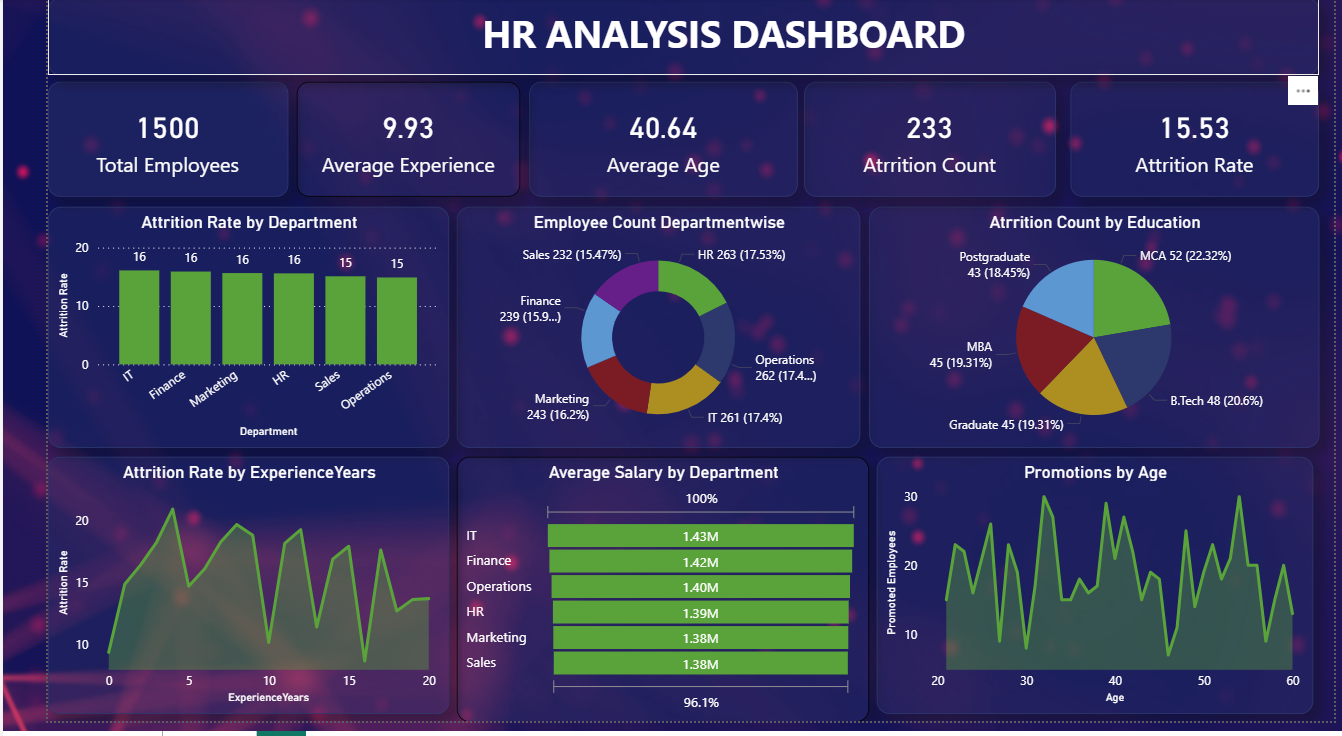

What the dashboard file says about the page in this screenshot:
{"tool":"powerbi","page":{"name":"Page 1","canvas":[1280,720],"ordinal":0},"visuals":[{"type":"funnel","fields":{"Category":["Employee Data.Department"],"Y":["Employee Data.Average Salary"]},"box":[406.8,456.5,410.5,263.7],"z":0},{"type":"donutChart","title":" Employee Count Departmentwise","fields":{"Y":["Employee Data.Total Employees"],"Category":["Employee Data.Department"]},"box":[406.8,207.7,401.8,240.1],"z":1000},{"type":"pieChart","fields":{"Y":["Employee Data.Atrrition Count"],"Category":["Employee Data.Education"]},"box":[817.3,207.7,447.8,240.1],"z":2000},{"type":"card","fields":{"Values":["Employee Data.Average Age"]},"box":[478.9,83.3,267.5,114.4],"z":3000},{"type":"card","fields":{"Values":["Employee Data.Attrition Rate"]},"box":[1017.6,83.3,247.5,114.4],"z":4000},{"type":"card","fields":{"Values":["Employee Data.Average Experience"]},"box":[247.5,83.3,222.7,114.4],"z":5000},{"type":"card","fields":{"Values":["Employee Data.Total Employees"]},"box":[0,83.3,238.8,114.4],"z":6000},{"type":"card","fields":{"Values":["Employee Data.Atrrition Count"]},"box":[752.6,83.3,250,114.4],"z":7000},{"type":"columnChart","fields":{"Category":["Employee Data.Department"],"Y":["Employee Data.Attrition Rate"]},"box":[0,207.7,399.3,240.1],"z":8000},{"type":"textbox","box":[0,0,1265.1,77.1],"z":9000},{"type":"areaChart","title":"Promotions by Age","fields":{"Category":["Employee Data.Age"],"Y":["Employee Data.Promoted Employees"]},"box":[824.7,456.5,434.1,256.3],"z":10000},{"type":"areaChart","fields":{"Y":["Employee Data.Attrition Rate"],"Category":["Employee Data.ExperienceYears"]},"box":[0,456.5,399.3,256.3],"z":11000}]}

Visuals, with their boxes in screenshot pixels (x1, y1, x2, y2), scaled from the page's 1280x720 canvas onto the 1342x736 screenshot:
funnel - Employee Data.Department x Employee Data.Average Salary: rect(427, 467, 857, 735)
" Employee Count Departmentwise" donutChart: rect(427, 212, 848, 458)
pieChart - Employee Data.Atrrition Count x Employee Data.Education: rect(857, 212, 1326, 458)
card - Employee Data.Average Age: rect(502, 85, 783, 202)
card - Employee Data.Attrition Rate: rect(1067, 85, 1326, 202)
card - Employee Data.Average Experience: rect(259, 85, 493, 202)
card - Employee Data.Total Employees: rect(0, 85, 250, 202)
card - Employee Data.Atrrition Count: rect(789, 85, 1051, 202)
columnChart - Employee Data.Department x Employee Data.Attrition Rate: rect(0, 212, 419, 458)
textbox: rect(0, 0, 1326, 79)
"Promotions by Age" areaChart: rect(865, 467, 1320, 729)
areaChart - Employee Data.Attrition Rate x Employee Data.ExperienceYears: rect(0, 467, 419, 729)
